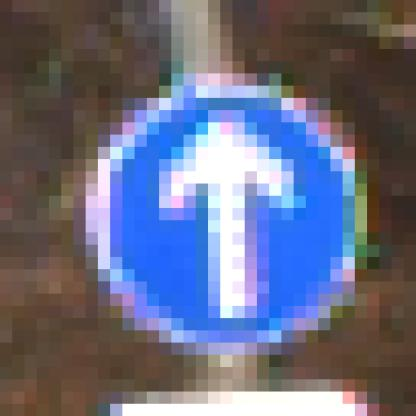AheadOnly: (74, 75, 356, 344)
